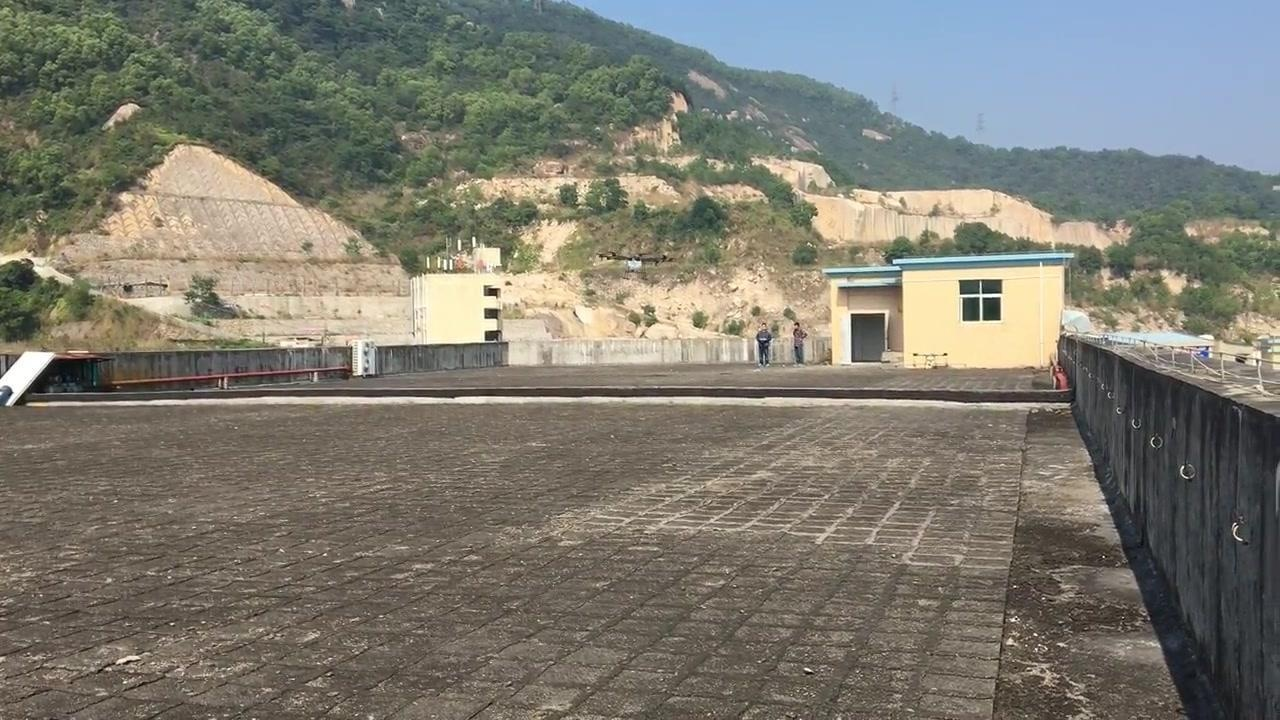UAV: (597, 252, 677, 281)
